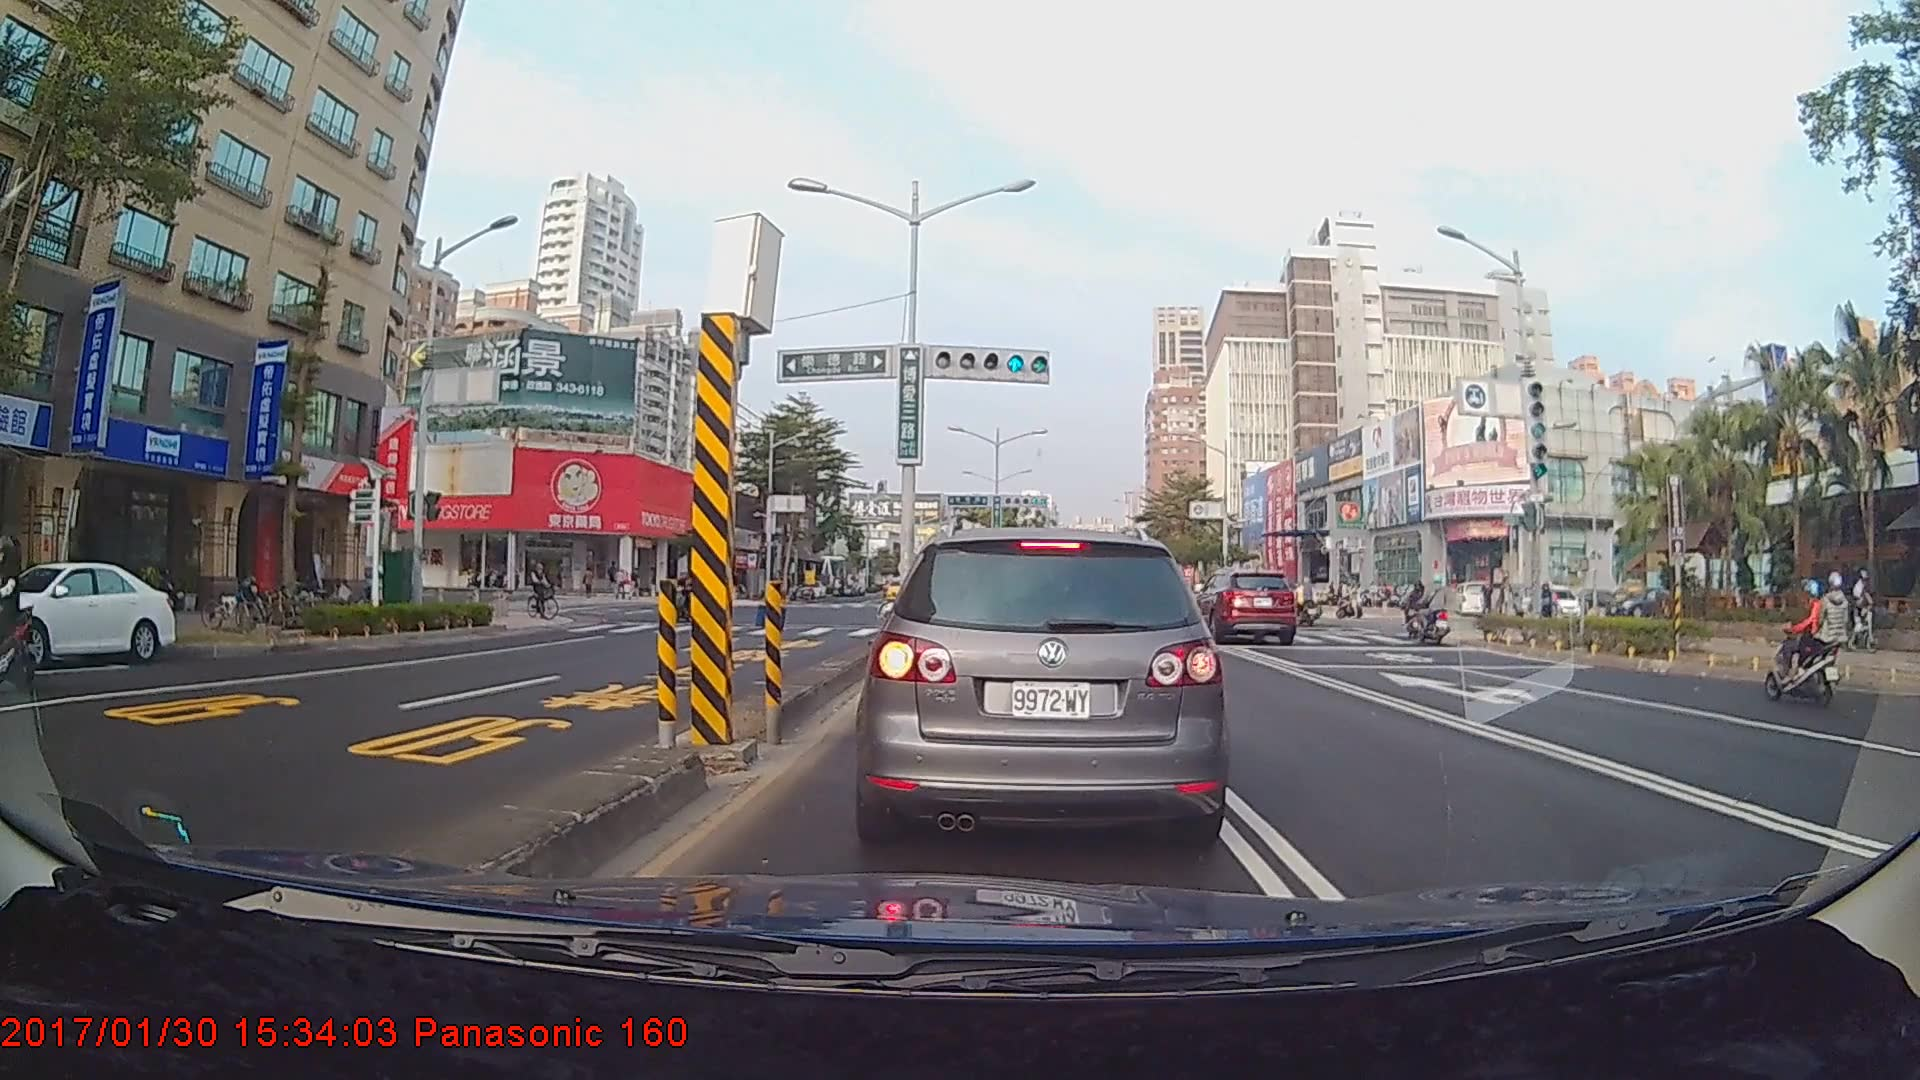rider: (1766, 571, 1866, 708), (1836, 564, 1885, 656), (1416, 569, 1452, 646), (523, 559, 565, 615), (1404, 574, 1431, 646)
vehicle: (868, 518, 1222, 846), (0, 560, 167, 672), (1186, 568, 1296, 646)
